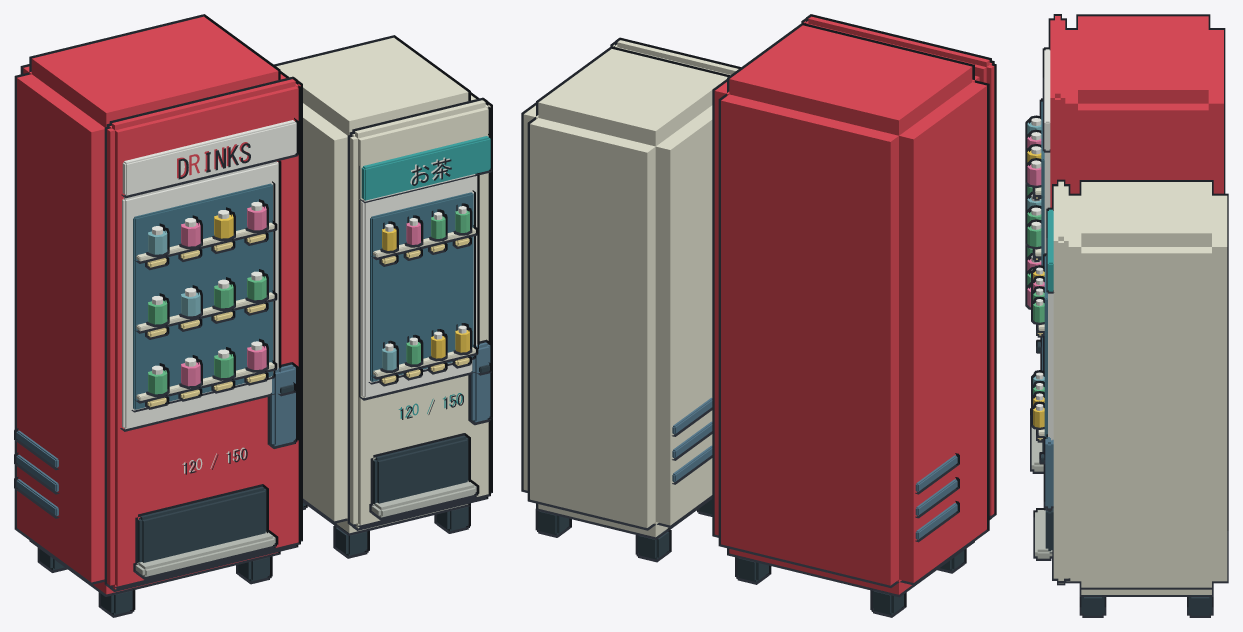
The model's file is VendingMachines.fbx.
3 views of the same model, side by side, from view 1: azimuth 30°, elevation 25°; view 2: azimuth 150°, elevation 25°; view 3: azimuth 270°, elevation 25° (orthographic). The views are drawn at different scales.
Visible parts, largest first — view 1: VendingMachine_Red_Mesh, VendingMachine_Cream_Mesh, NPR_Outline_VendingMachine_Red_Mesh, NPR_Outline_VendingMachine_Cream_Mesh; view 2: VendingMachine_Red_Mesh, VendingMachine_Cream_Mesh, NPR_Outline_VendingMachine_Red_Mesh, NPR_Outline_VendingMachine_Cream_Mesh; view 3: VendingMachine_Cream_Mesh, VendingMachine_Red_Mesh, NPR_Outline_VendingMachine_Cream_Mesh, NPR_Outline_VendingMachine_Red_Mesh.
Boxes of the visible parts, x1,y1,x2,y2 form: VendingMachine_Red_Mesh: (16,16,300,614); VendingMachine_Cream_Mesh: (276,37,490,555); NPR_Outline_VendingMachine_Red_Mesh: (14,14,302,617); NPR_Outline_VendingMachine_Cream_Mesh: (274,35,492,558); VendingMachine_Red_Mesh: (714,16,994,614); VendingMachine_Cream_Mesh: (523,40,738,559); NPR_Outline_VendingMachine_Red_Mesh: (712,14,996,617); NPR_Outline_VendingMachine_Cream_Mesh: (521,37,740,562); VendingMachine_Cream_Mesh: (1033,181,1227,615); VendingMachine_Red_Mesh: (1027,16,1223,471); NPR_Outline_VendingMachine_Cream_Mesh: (1031,179,1228,617); NPR_Outline_VendingMachine_Red_Mesh: (1025,14,1225,473).
Bounding box in the file's own units: 121 × 147 × 60.67.
